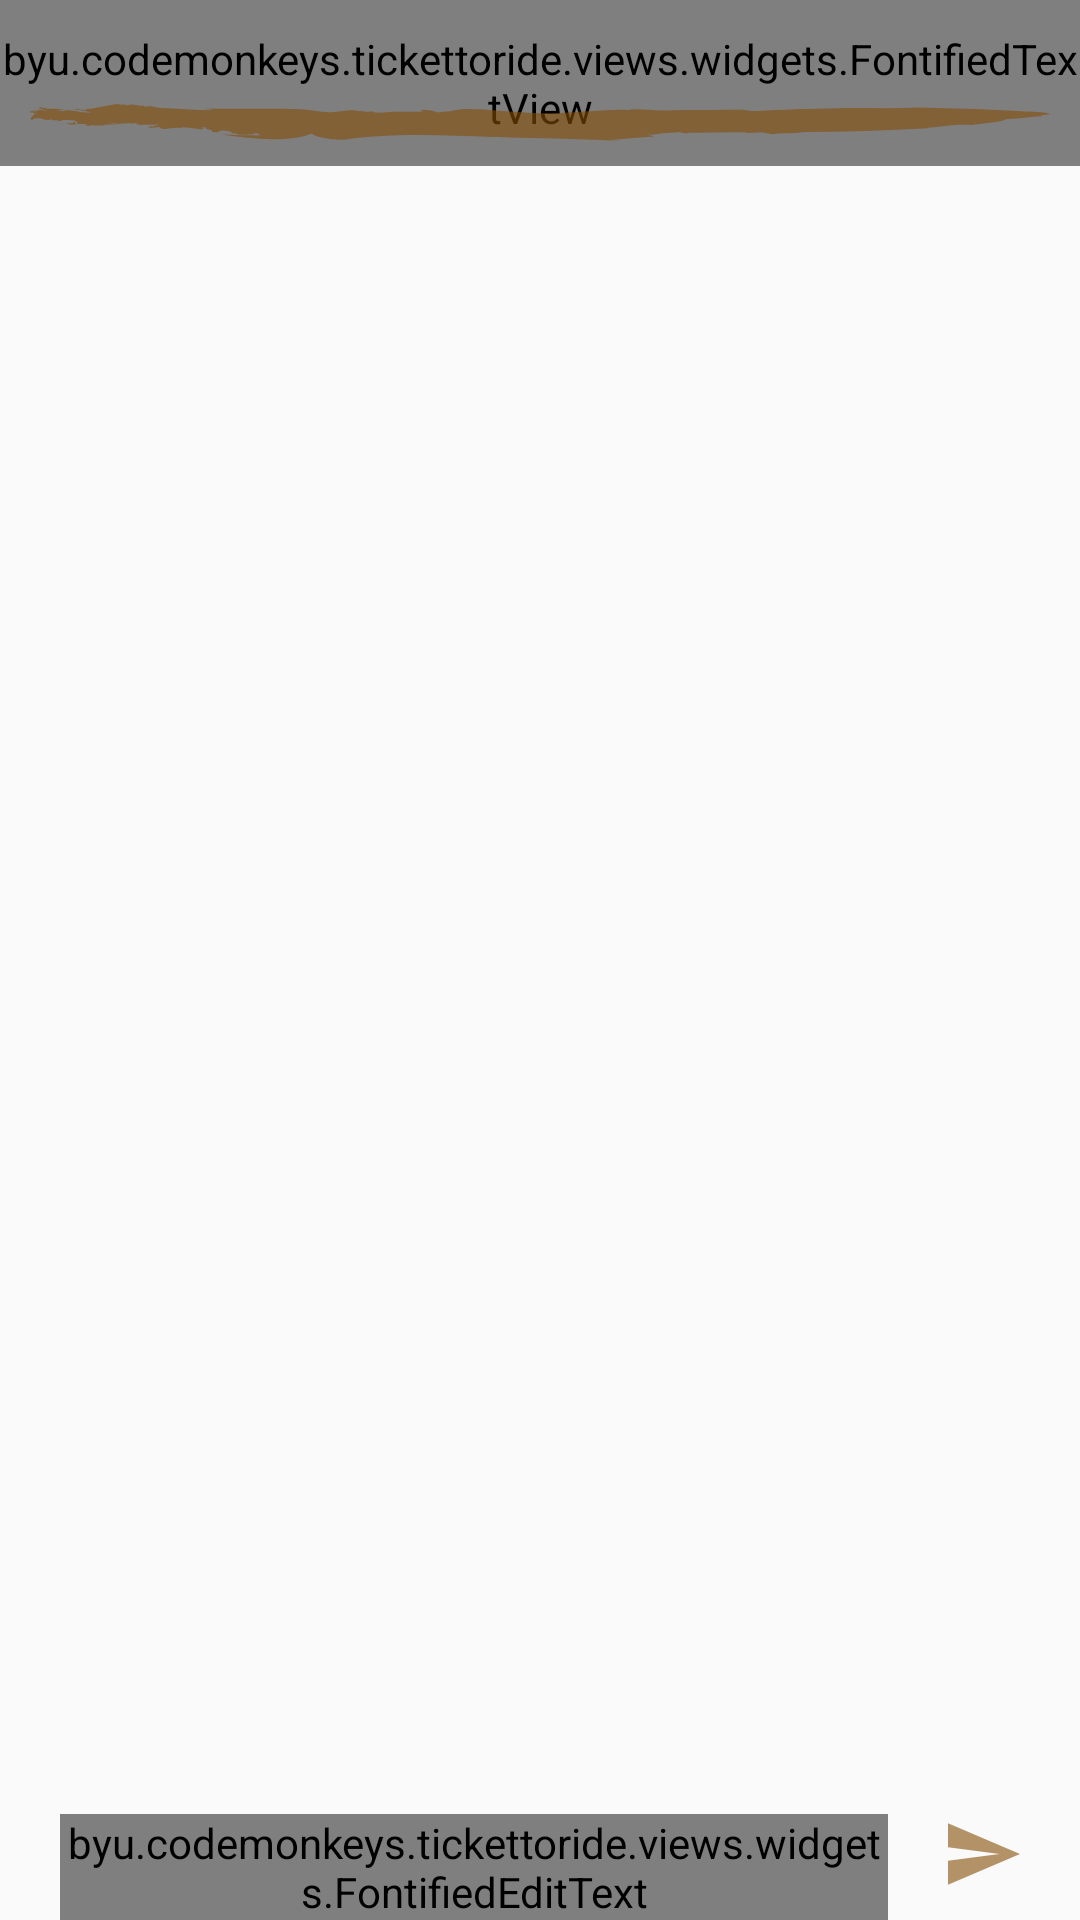

Named icons in this screenshot (1080 x 1920) and their centers, (x,y):
send: (984,1854)
